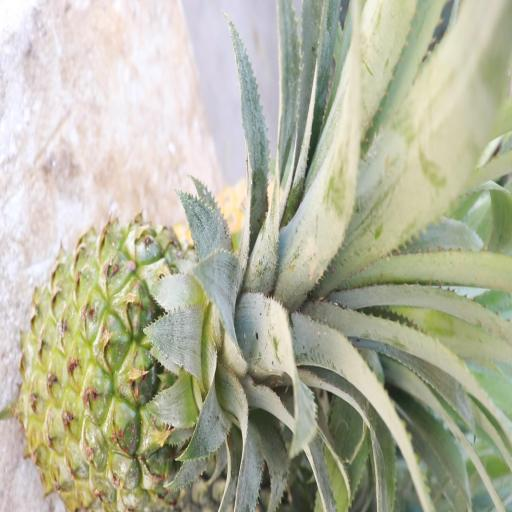------------------------------: (21, 227, 296, 509)
